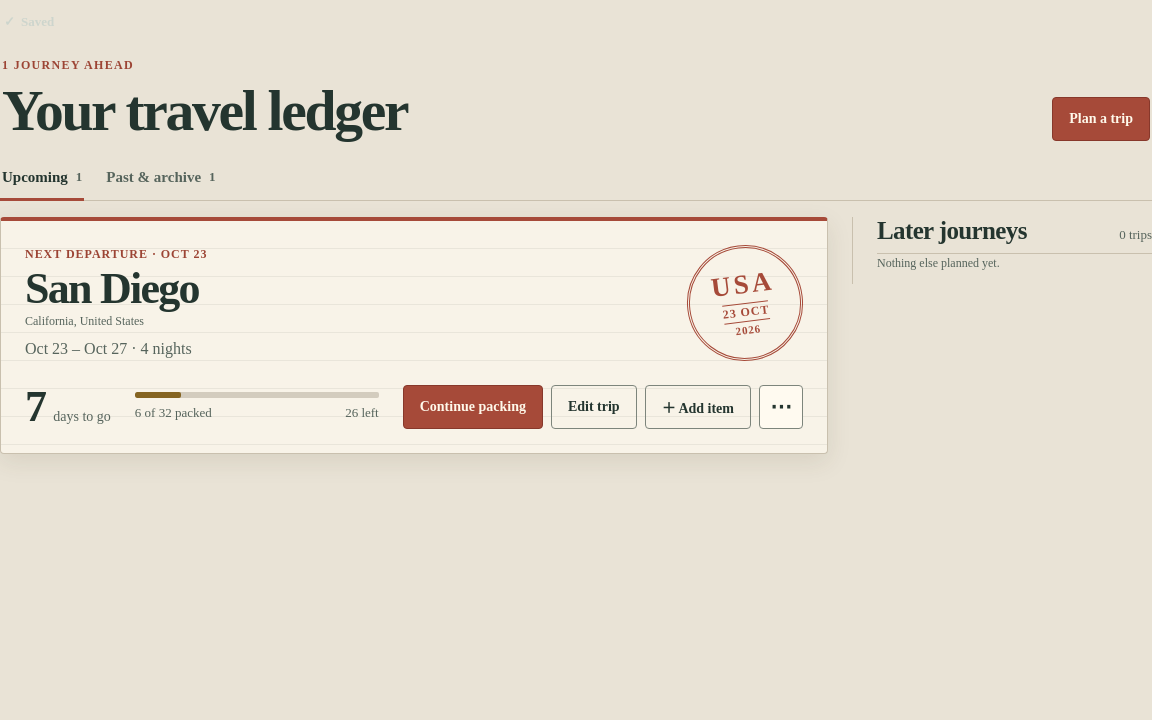
Test case: past & archive view › shows past trips by date, no Archive or Restore for them, and an empty Recently deleted
Expected: the heading "San Diego" is shown, [25, 267, 207, 310]
Click the button "Past & archive 1".
click(161, 179)  # box [104, 157, 218, 201]
(page scrolled)
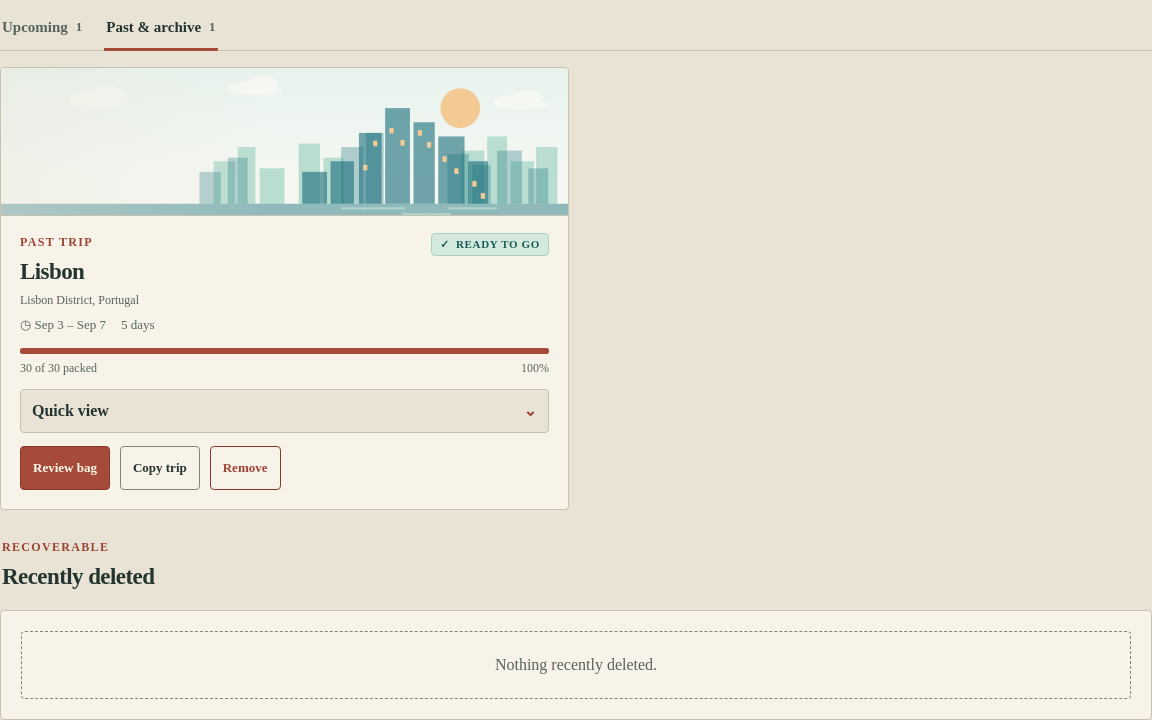
Now the heading "Your travel ledger" is gone
Now the text "Past trip" is shown, box [20, 235, 93, 249]
Now the text "Ready to go" is shown, box [456, 238, 540, 250]
